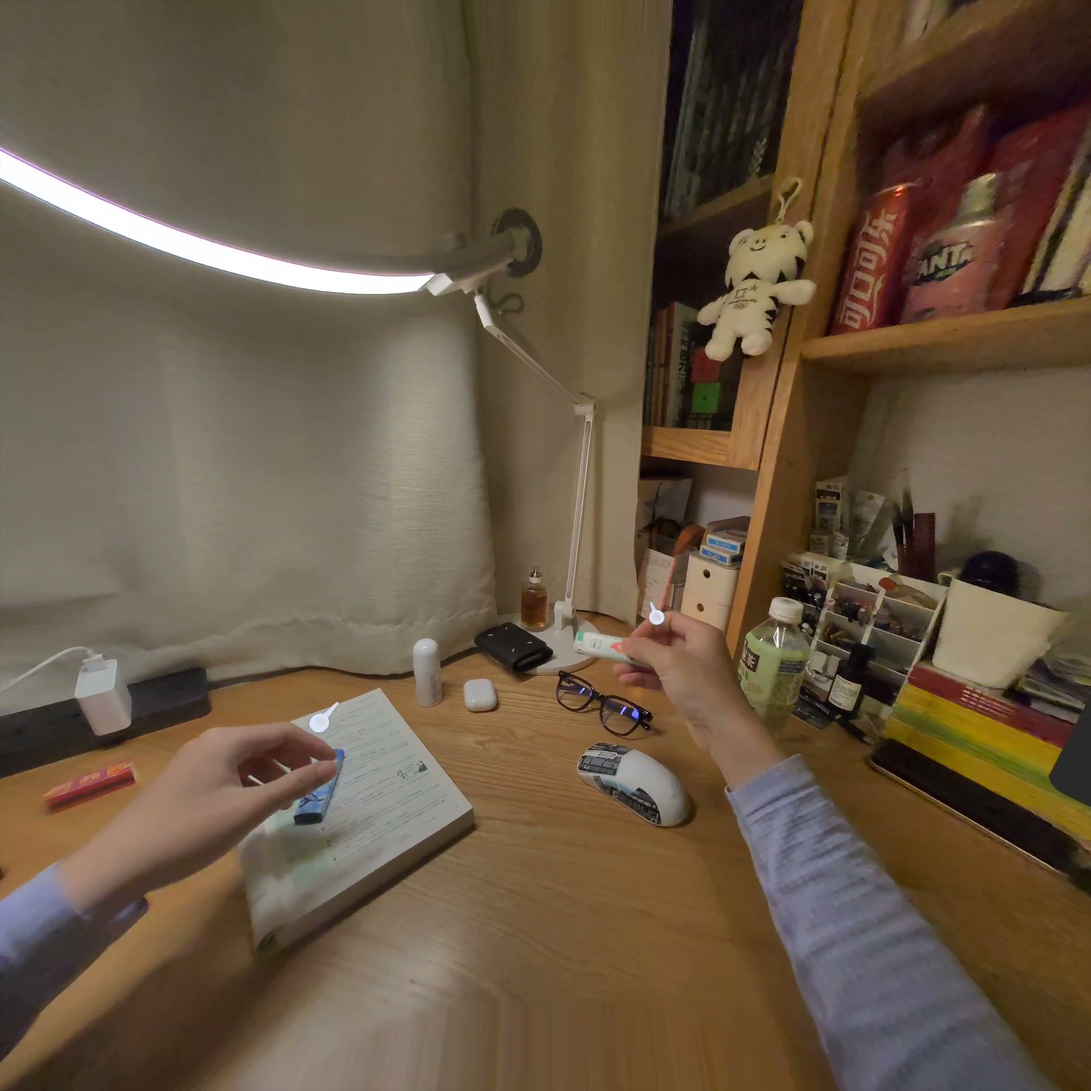lighter: (293, 749, 344, 826)
